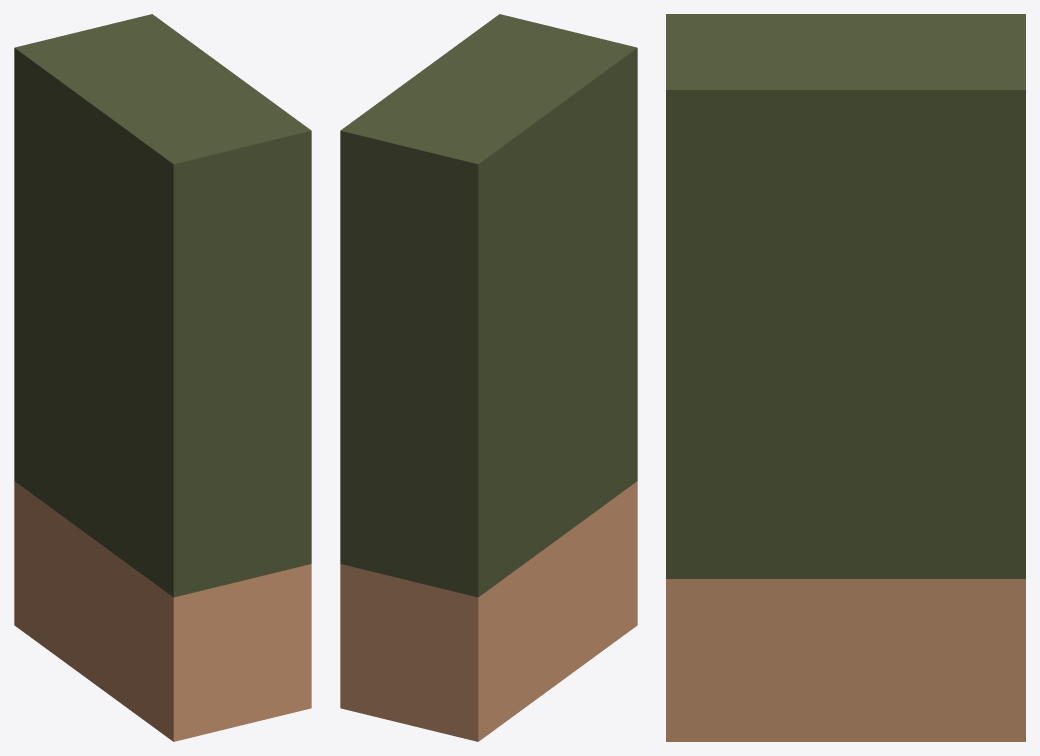
Rendered from cm_arm_h_l.glb.
3 renders of one model, left to right at view 1: azimuth 30°, elevation 25°; view 2: azimuth 150°, elevation 25°; view 3: azimuth 270°, elevation 25°, orthographic. The views are drawn at different scales.
Parts seen in each view (by area): view 1: cm_arm_h_l_body; view 2: cm_arm_h_l_body; view 3: cm_arm_h_l_body.
Boxes of the visible parts, x1,y1,x2,y2 form: cm_arm_h_l_body: [14, 14, 311, 741]; cm_arm_h_l_body: [340, 14, 637, 741]; cm_arm_h_l_body: [666, 14, 1025, 741].
Size of the model in its own units: 0.0625 by 0.25 by 0.125.
1 material, 1 textured.
